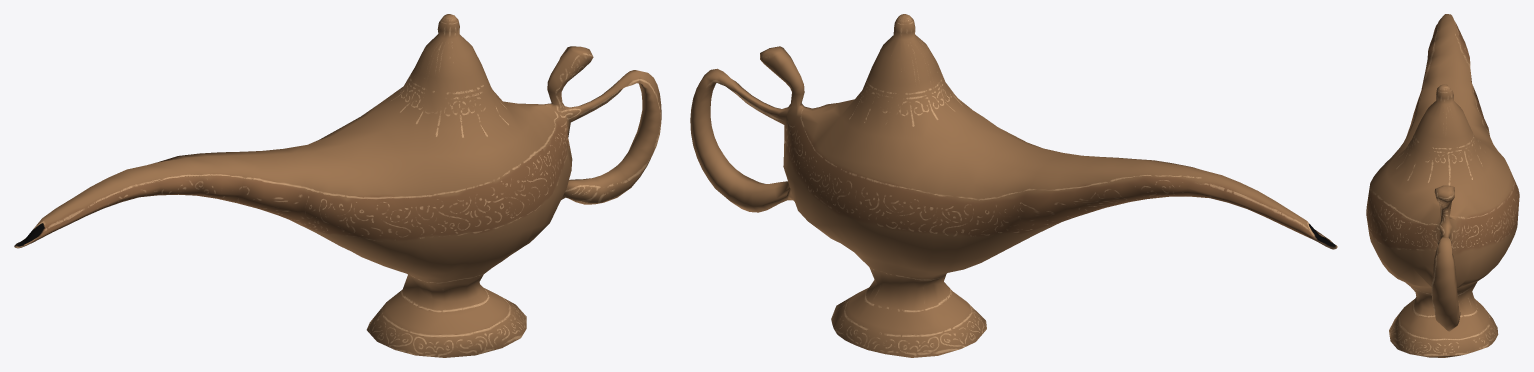
The model's file is lamp.gltf.
The picture shows the model from 3 angles, left to right: view 1: azimuth 30°, elevation 25°; view 2: azimuth 150°, elevation 25°; view 3: azimuth 270°, elevation 25°; orthographic projection. The views are drawn at different scales.
Visible parts, largest first — view 1: Lamp_LowPoly; view 2: Lamp_LowPoly; view 3: Lamp_LowPoly.
Part boxes in pixels (left/top/right/bottom): Lamp_LowPoly: left=14, top=14, right=661, bottom=357; Lamp_LowPoly: left=690, top=14, right=1337, bottom=357; Lamp_LowPoly: left=1366, top=14, right=1519, bottom=357.
Bounding box in the file's own units: 3.42 × 1.61 × 0.8854.
Materials: 1 (1 with a texture image).
